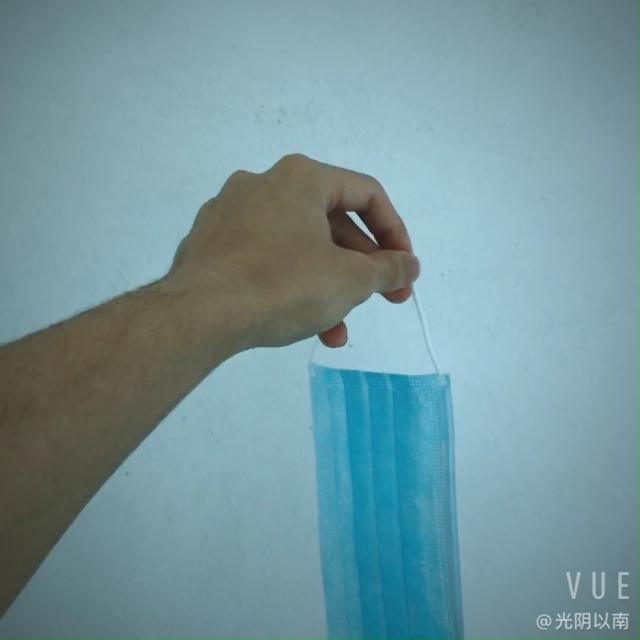face mask: (280, 349, 480, 629)
